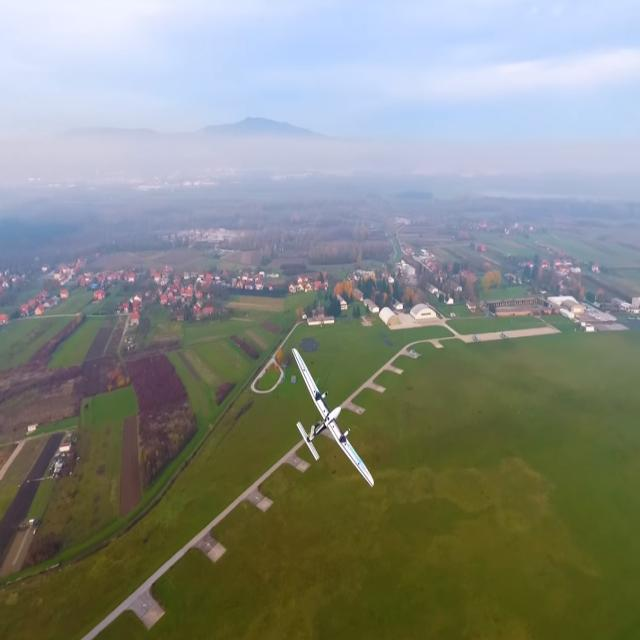iha: (324, 346, 342, 489)
